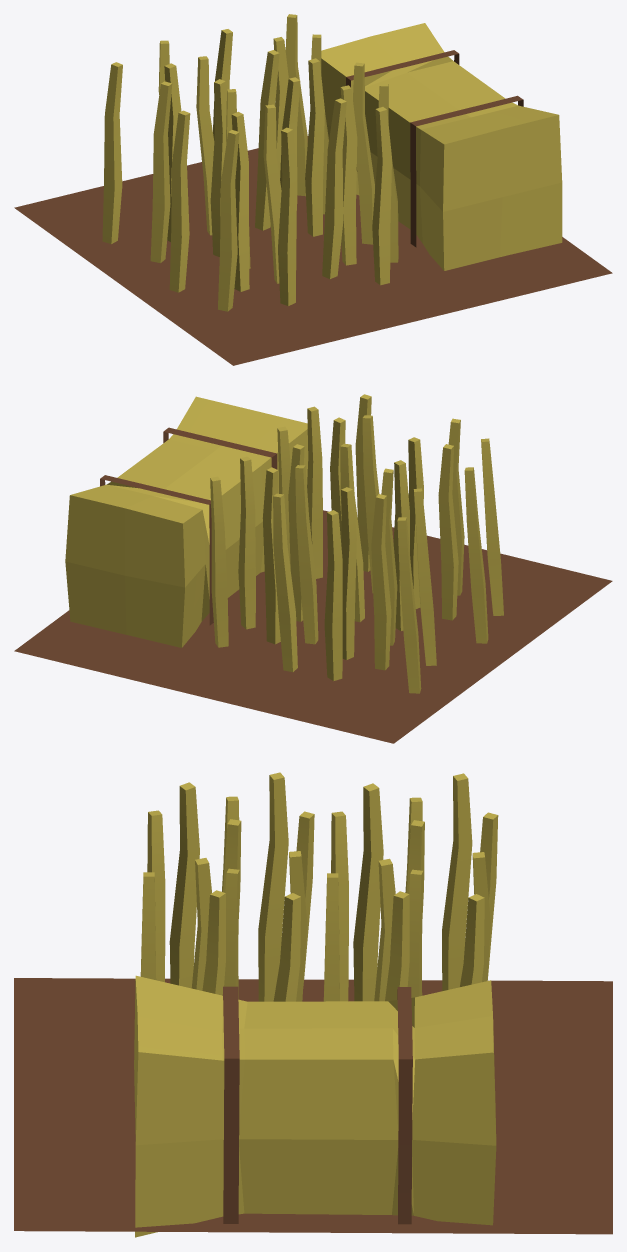
The model's file is wheat.glb.
3 renders of one model, top to bottom at view 1: azimuth 30°, elevation 25°; view 2: azimuth 150°, elevation 25°; view 3: azimuth 270°, elevation 25°, orthographic. The views are drawn at different scales.
Visible parts, largest first — view 1: Plane006; view 2: Plane006; view 3: Plane006.
Part boxes in pixels (x1=…): Plane006: x1=14, y1=14, x2=612, y2=365; Plane006: x1=14, y1=394, x2=612, y2=743; Plane006: x1=14, y1=772, x2=612, y2=1237.
Bounding box in the file's own units: 0.6419 × 0.2945 × 0.6419.
